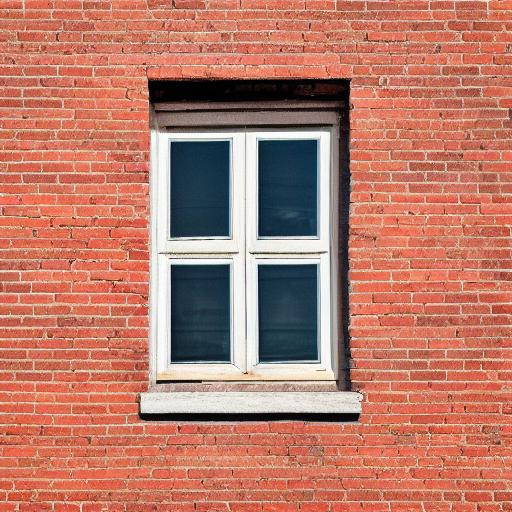Window: (138, 79, 363, 421)
